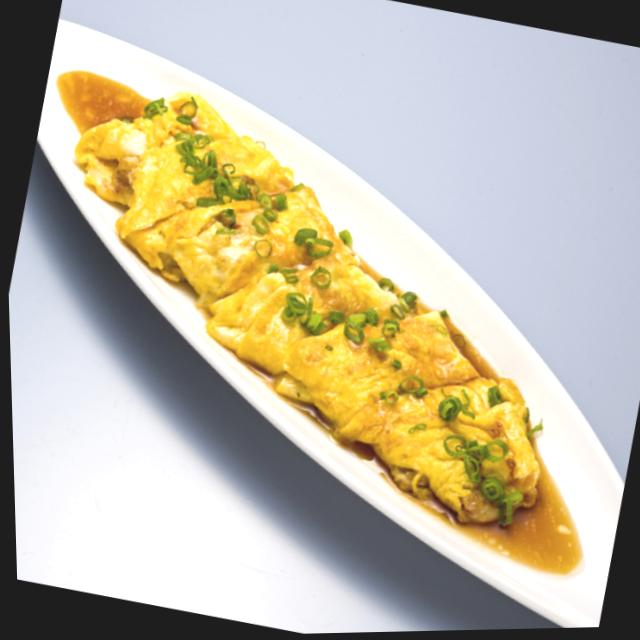鸡蛋料理: (1, 29, 640, 617)
